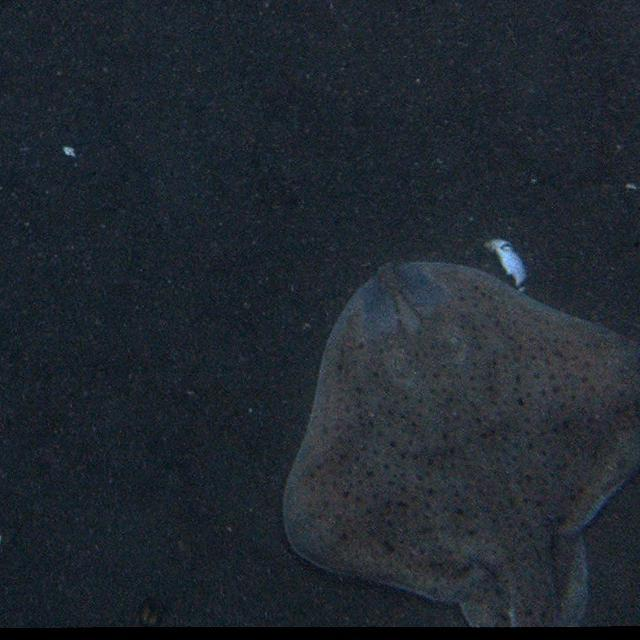skate: (284, 255, 631, 627)
